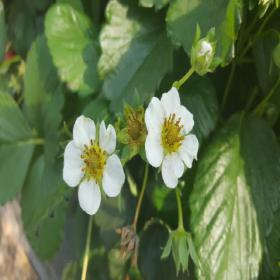Blossom Blight: (78, 137, 108, 184), (160, 112, 188, 156), (124, 110, 146, 144)
